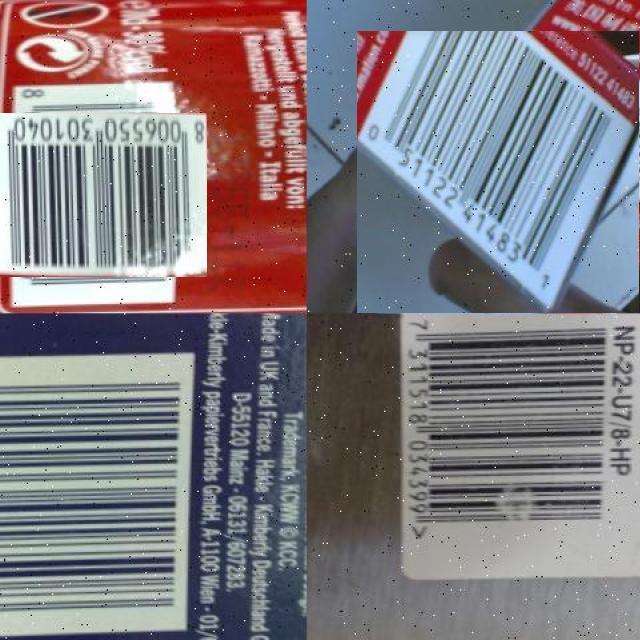Barcode: (357, 31, 640, 313), (0, 352, 193, 640), (398, 318, 613, 551), (0, 98, 192, 292)
